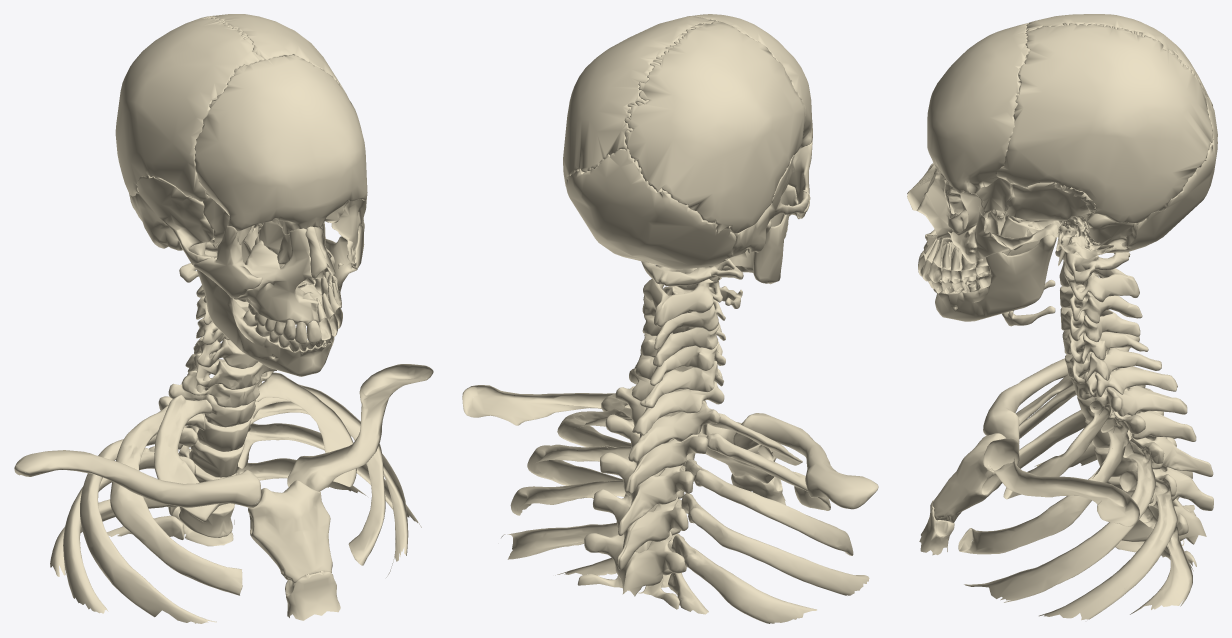
Rendered from bone.glb.
3 views of the same model, side by side, from view 1: azimuth 30°, elevation 25°; view 2: azimuth 150°, elevation 25°; view 3: azimuth 270°, elevation 25° (orthographic).
Visible parts, largest first — view 1: bone; view 2: bone; view 3: bone.
Part boxes in pixels (box(x1,y1,x2,y2)): bone: box(14, 14, 433, 623); bone: box(462, 14, 878, 623); bone: box(907, 14, 1217, 620).
Bounding box in the file's own units: 3.09 × 3.75 × 2.04.
